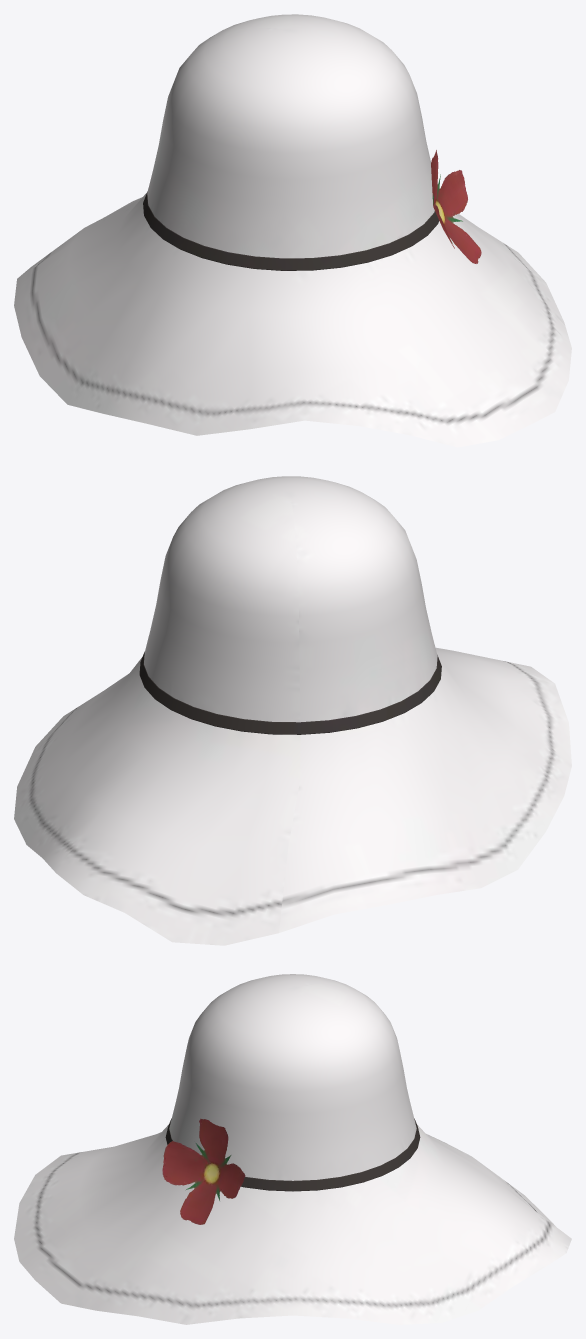
File: ropa_sunday_hat.glb
3 views of the same model, one above another, from view 1: azimuth 30°, elevation 25°; view 2: azimuth 150°, elevation 25°; view 3: azimuth 270°, elevation 25° (orthographic). The views are drawn at different scales.
Parts seen in each view (by area): view 1: sunday_hat__0; view 2: sunday_hat__0; view 3: sunday_hat__0.
Part boxes in pixels (x1,y1,x2,y2): sunday_hat__0: [14, 14, 571, 447]; sunday_hat__0: [14, 476, 571, 945]; sunday_hat__0: [14, 974, 571, 1324].
Bounding box in the file's own units: 0.332 × 0.224 × 0.42.
1 material, 1 textured.
